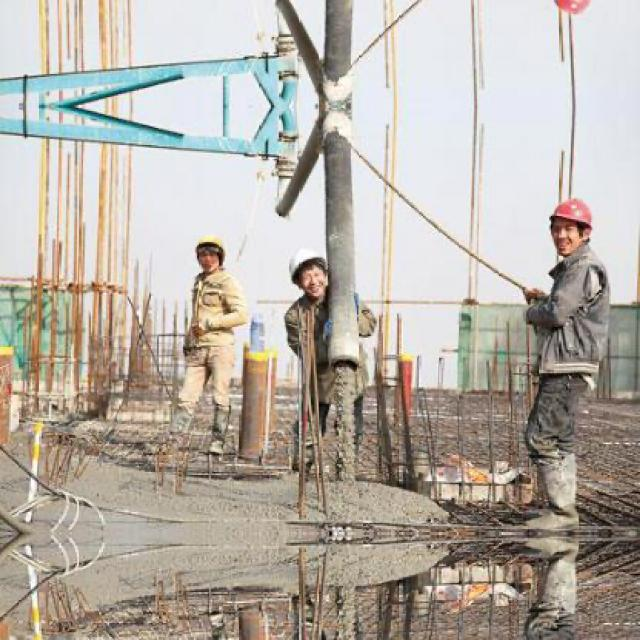helmet: (546, 191, 599, 259), (288, 244, 329, 304), (192, 228, 228, 275), (544, 0, 598, 23)
